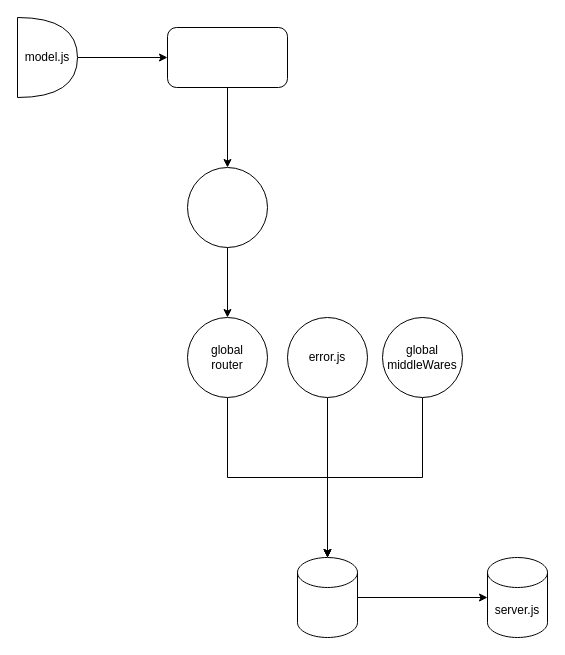
This 565x655 diagram has some shape labels left out. The box of each missing label's shape, as (x1, y1, x2, y2) in pixels:
app.js: (296, 556, 358, 638)
Database: (166, 26, 288, 88)
routes: (186, 166, 268, 248)
